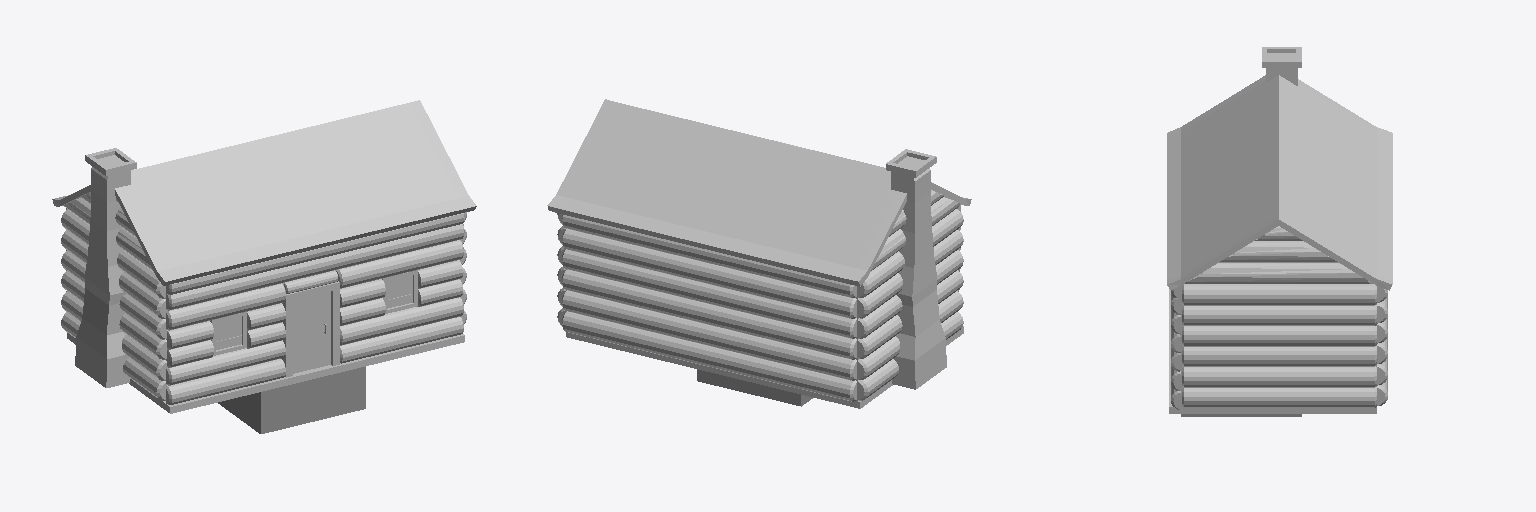
Rendered from cabin.obj.
3 renders of one model, left to right at view 1: azimuth 30°, elevation 25°; view 2: azimuth 150°, elevation 25°; view 3: azimuth 270°, elevation 25°, orthographic.
Visible parts, largest first — view 1: Cube.001, Cube; view 2: Cube.001, Cube; view 3: Cube.001.
Part boxes in pixels (bbox=[...]): Cube.001: bbox=[52, 100, 476, 413]; Cube: bbox=[218, 366, 365, 433]; Cube.001: bbox=[547, 99, 971, 408]; Cube: bbox=[697, 369, 812, 406]; Cube.001: bbox=[1167, 47, 1392, 413].
Bounding box in the file's own units: 6.27 × 4.8 × 3.74.